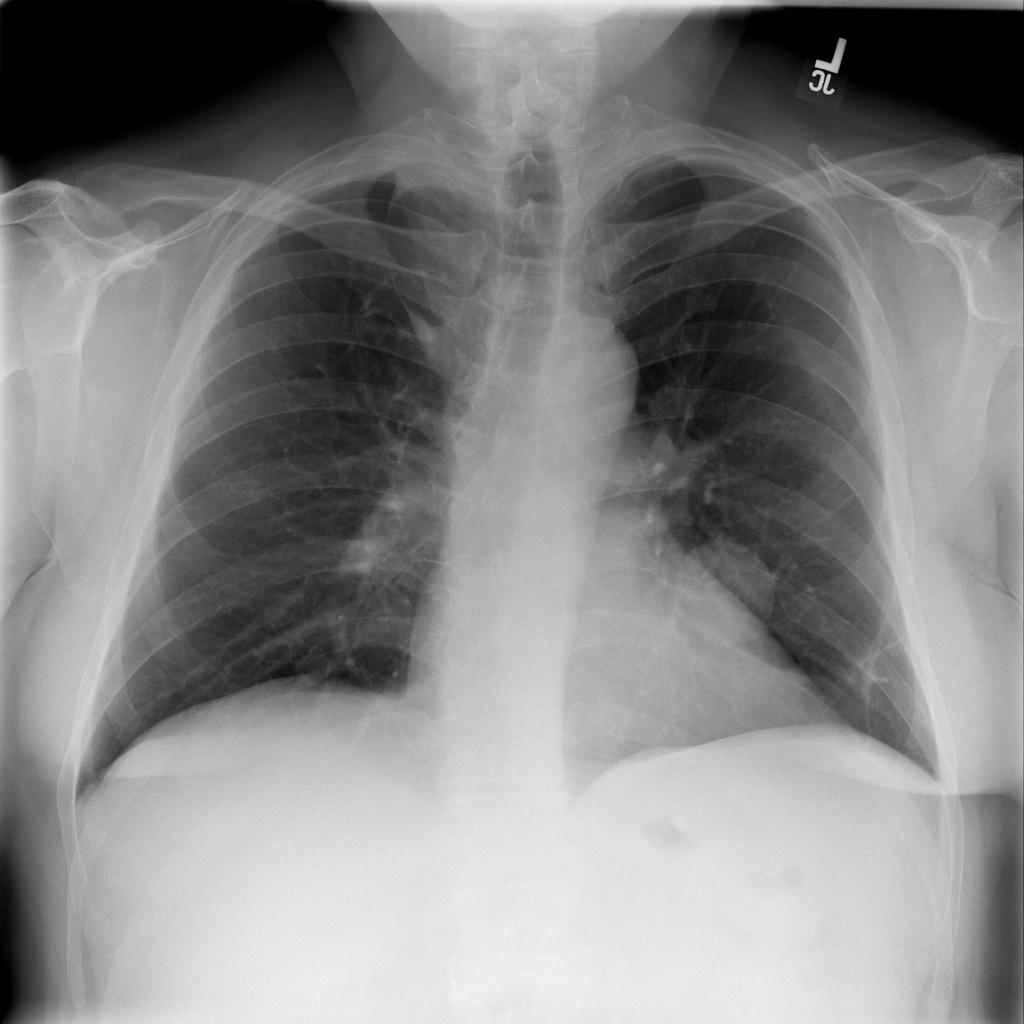nodule: (650, 525, 796, 668)
